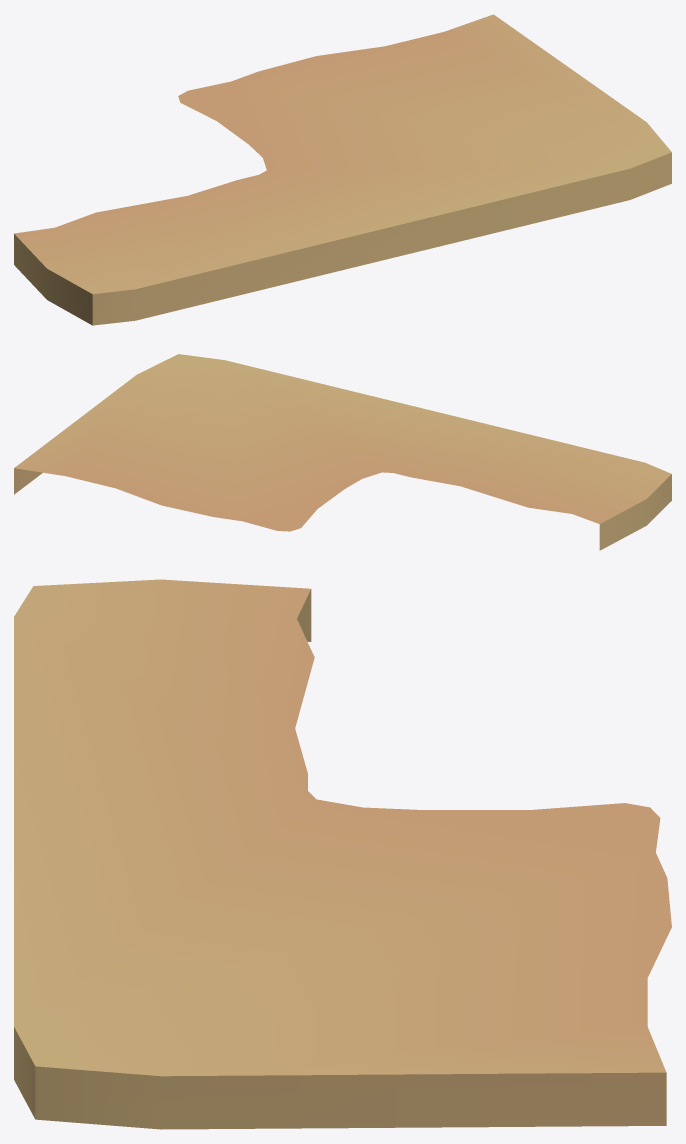
The model's file is Beach2.fbx.
The picture shows the model from 3 angles, top to bottom: view 1: azimuth 30°, elevation 25°; view 2: azimuth 150°, elevation 25°; view 3: azimuth 270°, elevation 25°; orthographic projection. The views are drawn at different scales.
Visible parts, largest first — view 1: Plane.098; view 2: Plane.098; view 3: Plane.098.
Boxes of the visible parts, x1,y1,x2,y2 form: Plane.098: (14,14,671,325); Plane.098: (14,354,671,550); Plane.098: (14,579,671,1129).
Size of the model in its own units: 2000 by 100 by 1120.
